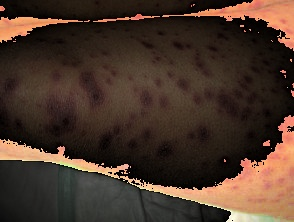SJS-TEN: (100, 7, 294, 182), (32, 24, 115, 109), (36, 90, 80, 144)
